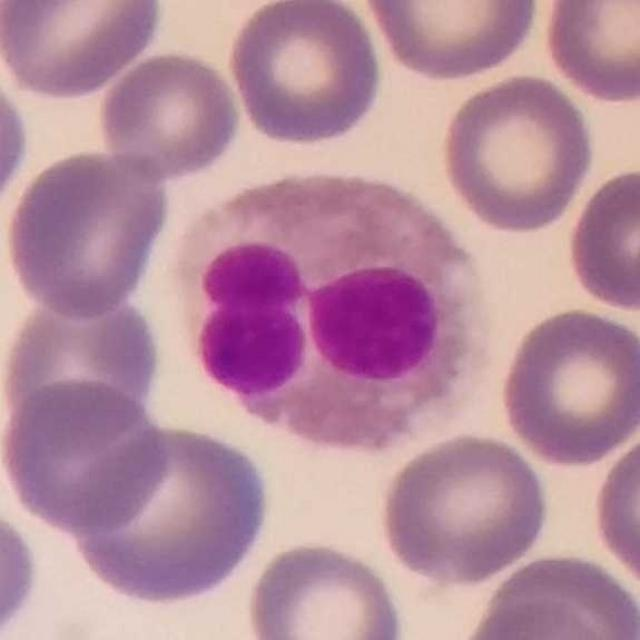eosino: (175, 168, 491, 452)
